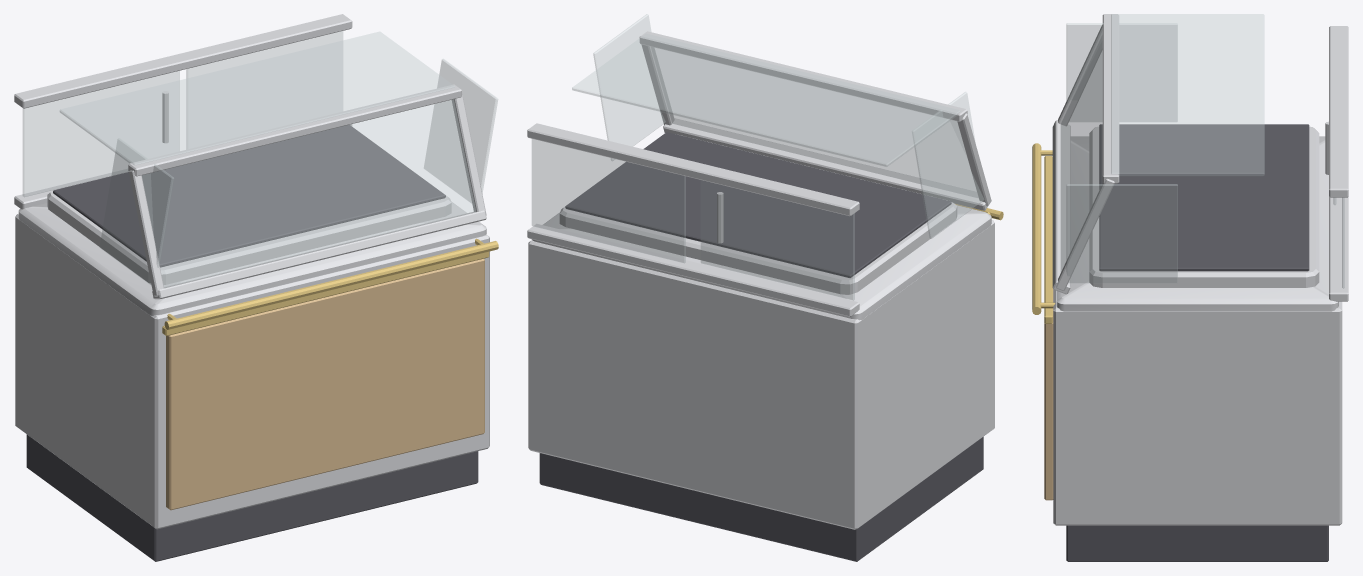
File: butchers-shop-and-deli-counter-serving-counter-module--dc5e25df__34442.glb
The picture shows the model from 3 angles, left to right: view 1: azimuth 30°, elevation 25°; view 2: azimuth 150°, elevation 25°; view 3: azimuth 270°, elevation 25°; orthographic projection. The views are drawn at different scales.
Visible parts, largest first — view 1: serving-counter-module-timber, counter-door/glass; view 2: serving-counter-module-timber, counter-door/glass; view 3: serving-counter-module-timber.
Boxes of the visible parts, left/top/right/bottom form: serving-counter-module-timber: left=14, top=14, right=498, bottom=561; counter-door/glass: left=23, top=71, right=179, bottom=196; serving-counter-module-timber: left=527, top=14, right=1003, bottom=561; counter-door/glass: left=701, top=180, right=854, bottom=300; serving-counter-module-timber: left=1032, top=14, right=1348, bottom=561.
Bounding box in the file's own units: 1.25 × 1.31 × 0.964.
